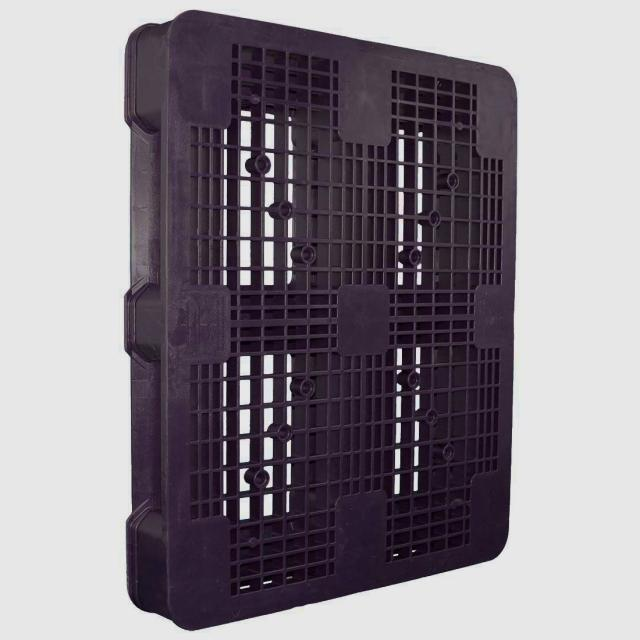non-igps: (115, 4, 525, 637)
